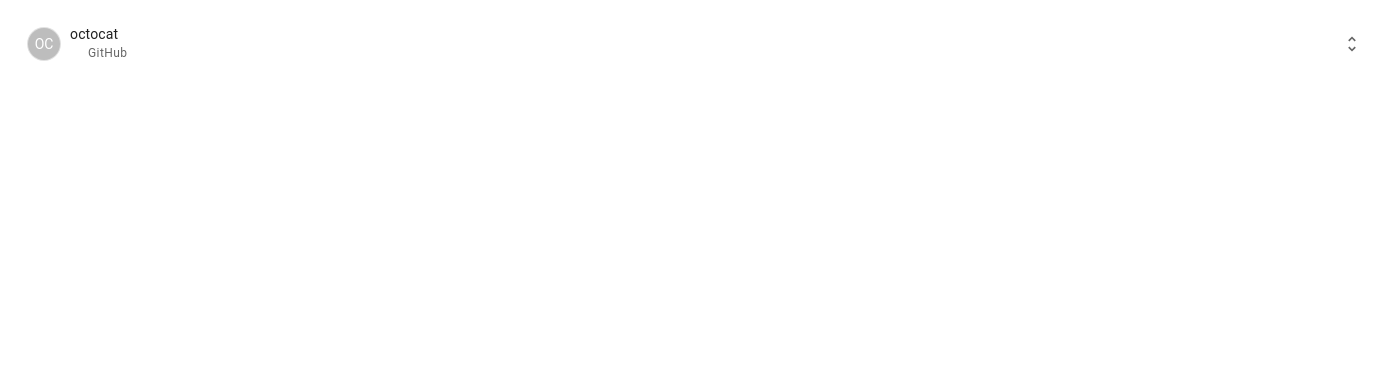
Test: Account › Escape closes the panel and focus returns to the trigger
This screenshot has width=1390, height=392.
Click the button "OC octocat GitHub": (44, 44) 12,12 -> 1378,76
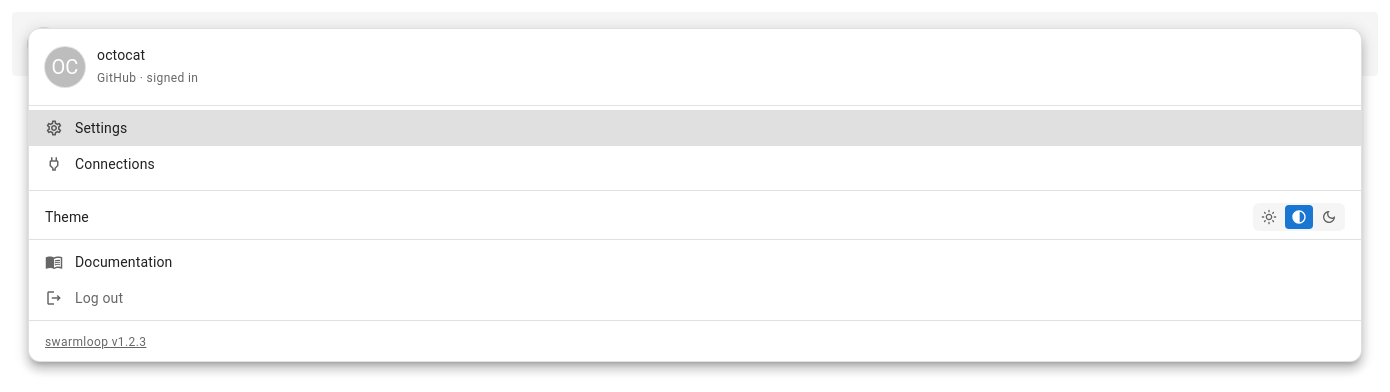
Press Escape
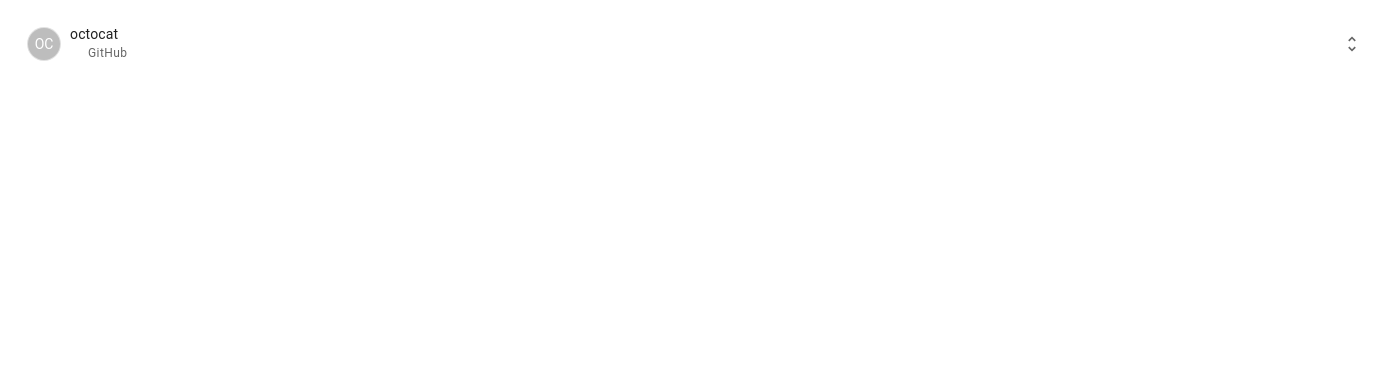
Expected: the menu is gone
